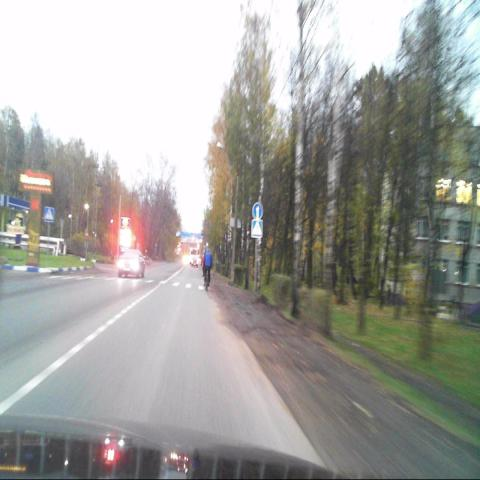4_1_1: (253, 203, 262, 218)
5_19_1: (251, 219, 263, 238), (44, 207, 53, 222)
